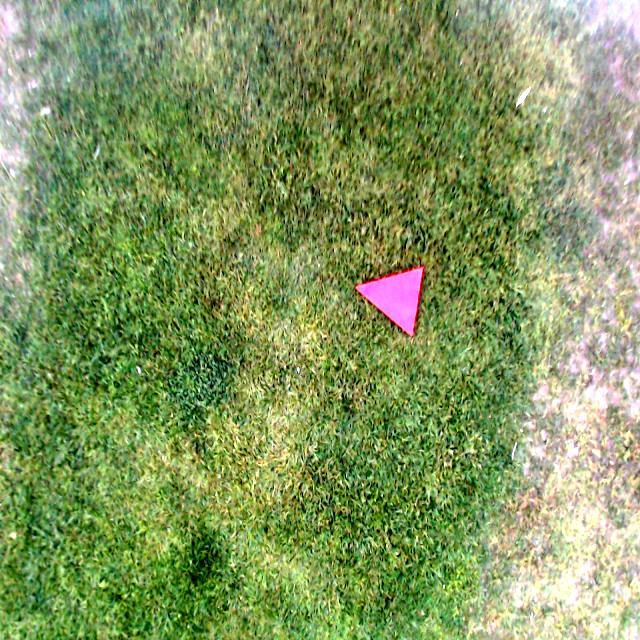red_triangle: (354, 263, 426, 338)
